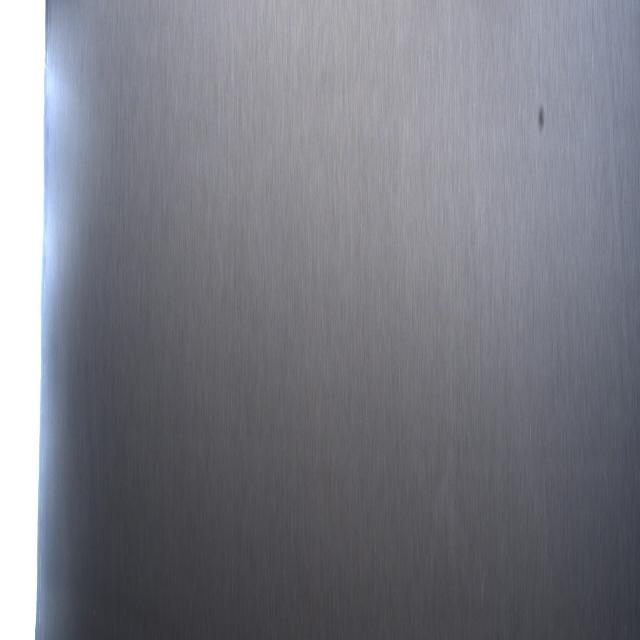crease: (600, 35, 640, 455)
